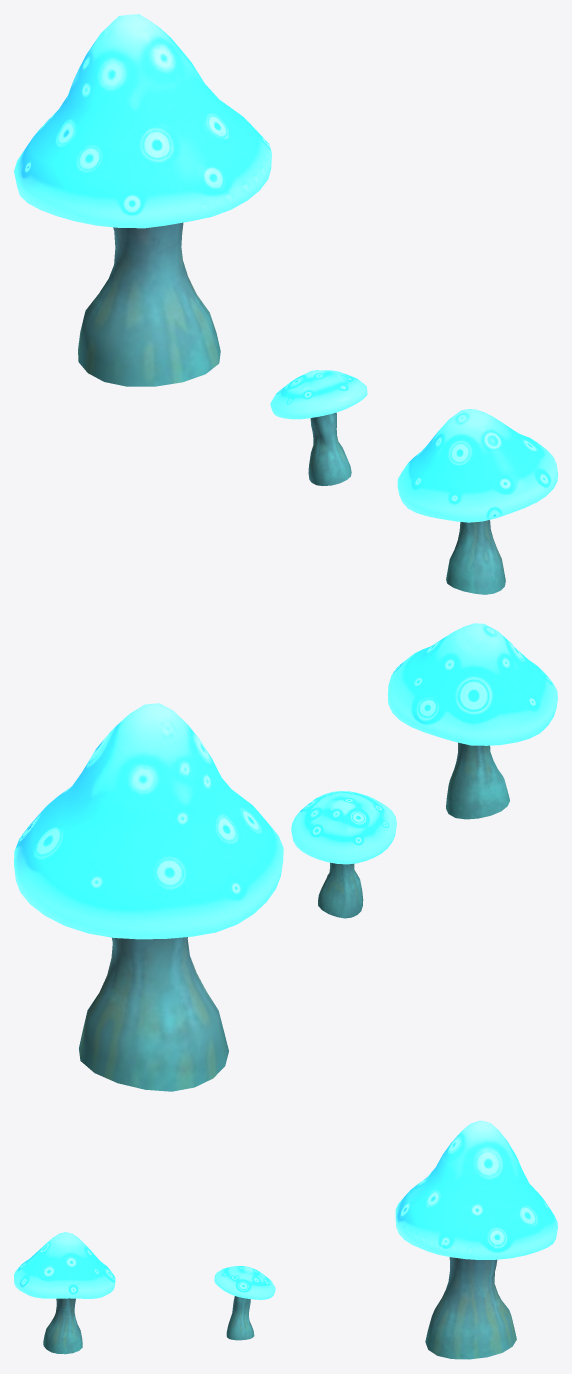
Rendered from hongoazulvarios.fbx.
3 renders of one model, top to bottom at view 1: azimuth 30°, elevation 25°; view 2: azimuth 150°, elevation 25°; view 3: azimuth 270°, elevation 25°, orthographic. The views are drawn at different scales.
Visible parts, largest first — view 1: Hat 1, Stem1, Hat3, Hat2, Stem3, Stem2; view 2: Hat 1, Stem1, Hat3, Hat2, Stem3, Stem2; view 3: Hat 1, Stem1, Hat3, Stem3, Hat2, Stem2.
Part boxes in pixels (box(x1,y1,x2,y2)): Hat 1: box(14, 14, 271, 228); Stem1: box(78, 222, 220, 386); Hat3: box(397, 409, 557, 522); Hat2: box(270, 370, 367, 419); Stem3: box(446, 520, 505, 594); Stem2: box(308, 412, 351, 485); Hat 1: box(14, 703, 283, 939); Stem1: box(79, 937, 228, 1091); Hat3: box(387, 623, 557, 745); Hat2: box(291, 791, 396, 864); Stem3: box(446, 742, 509, 819); Stem2: box(318, 862, 363, 918); Hat 1: box(395, 1120, 557, 1259); Stem1: box(425, 1257, 516, 1359); Hat3: box(14, 1232, 115, 1298); Stem3: box(43, 1298, 82, 1354); Hat2: box(214, 1266, 275, 1299); Stem2: box(226, 1296, 254, 1340).
Size of the model in its own units: 139 by 208 by 466.
Materials: 2 (2 with a texture image).
